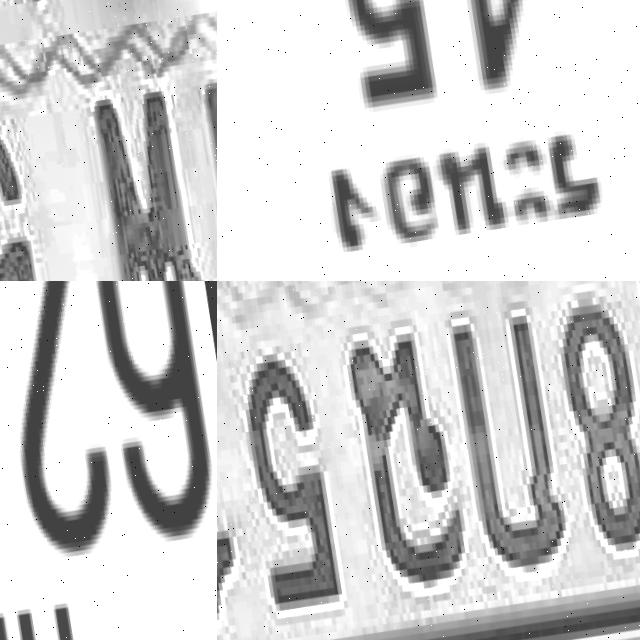license-plate: (217, 281, 640, 640), (217, 0, 640, 281), (0, 281, 217, 640), (0, 0, 217, 281)
